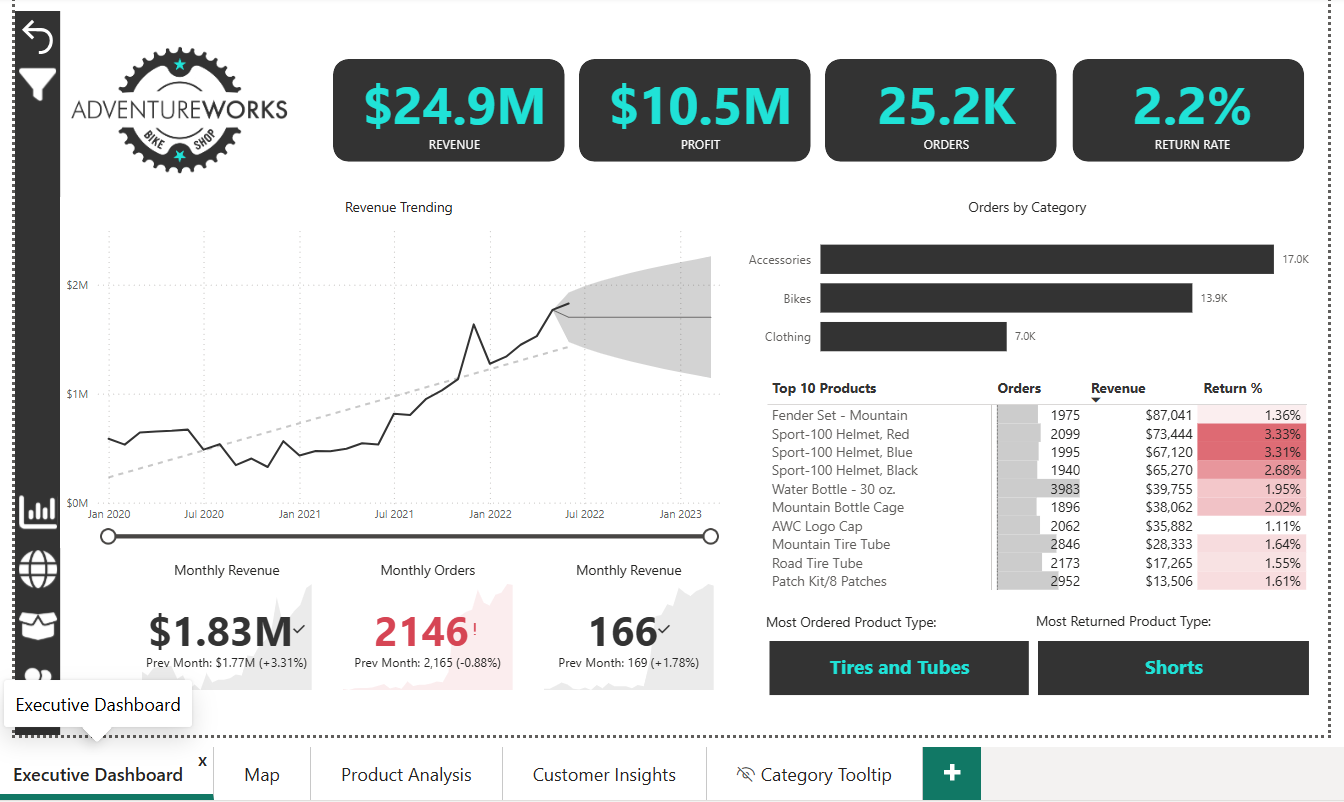

Layout of this report page (visuals, bound fields, positions):
{"tool":"powerbi","page":{"name":"Executive Dashboard","canvas":[1280,720],"ordinal":0},"visuals":[{"type":"image","title":"AW Logo","box":[25.7,14.3,268.6,192.9],"z":0},{"type":"card","fields":{"Values":["Measure Table.Total Revenue"]},"box":[293.3,15,268.3,193.3],"z":0,"group":"g2"},{"type":"group","id":"g1","title":"KPI Backgrounds","box":[310,61.4,945.7,100],"z":0,"group":"g3"},{"type":"shape","box":[310,61.4,225.7,100],"z":0,"group":"g1"},{"type":"actionButton","box":[0,476.7,45,53.3],"z":0,"group":"g4"},{"type":"shape","title":"Left Nav Background","box":[0,14.3,44.3,705.7],"z":1000},{"type":"group","id":"g2","title":"KPI Values","box":[293.3,15,986.7,193.3],"z":1000,"group":"g3"},{"type":"card","fields":{"Values":["Measure Table.Total Profit"]},"box":[532.7,15,268.3,193.3],"z":1000,"group":"g2"},{"type":"shape","box":[550,61.4,225.7,100],"z":1000,"group":"g1"},{"type":"actionButton","box":[0,532.3,45,53.3],"z":1000,"group":"g4"},{"type":"group","id":"g3","title":"KPIs","box":[293.3,15,986.7,193.3],"z":2000},{"type":"card","fields":{"Values":["Measure Table.Total Orders"]},"box":[772.2,15,268.3,193.3],"z":2000,"group":"g2"},{"type":"shape","box":[790,61.4,225.7,100],"z":2000,"group":"g1"},{"type":"actionButton","box":[0,587.8,45,53.3],"z":2000,"group":"g4"},{"type":"card","fields":{"Values":["Measure Table.Return Rate"]},"box":[1011.6,15,268.3,193.3],"z":3000,"group":"g2"},{"type":"shape","box":[1030,61.4,225.7,100],"z":3000,"group":"g1"},{"type":"lineChart","title":"Revenue Trending","fields":{"Y":["Measure Table.Total Revenue"],"Category":["Calendar Lookup.Year","Calendar Lookup.Start of Quarter","Calendar Lookup.Start of Month"]},"box":[44.3,195.7,660,341.4],"z":3000},{"type":"actionButton","box":[0,643.4,45,53.3],"z":3000,"group":"g4"},{"type":"kpi","title":"Monthly Revenue","fields":{"Indicator":["Measure Table.Total Revenue"],"TrendLine":["Calendar Lookup.Start of Month"],"Goal":["Measure Table.Previous Month Revenue"]},"box":[118.6,550,175.7,131.4],"z":4000},{"type":"kpi","title":"Monthly Orders","fields":{"TrendLine":["Calendar Lookup.Start of Month"],"Indicator":["Measure Table.Total Orders"],"Goal":["Measure Table.Previous Month Orders"]},"box":[314.3,550,175.7,131.4],"z":5000},{"type":"kpi","title":"Monthly Revenue","fields":{"TrendLine":["Calendar Lookup.Start of Month"],"Indicator":["Measure Table.Total Returns"],"Goal":["Measure Table.Previous Month Returns"]},"box":[510,550,175.7,131.4],"z":6000},{"type":"clusteredBarChart","title":"Orders by Category","fields":{"Category":["Product Categories Lookup.CategoryName"],"Y":["Measure Table.Total Orders"]},"box":[704.4,195.9,563.5,171.6],"z":7000},{"type":"pivotTable","fields":{"Rows":["Product Lookup.ProductName"],"Values":["Measure Table.Total Orders","Measure Table.Total Revenue","Measure Table.Return Rate"]},"box":[727.1,367.1,540,228.6],"z":8000},{"type":"card","fields":{"Values":["Min(Product Subcategories Lookup.SubcategoryName)"]},"box":[735.7,628.6,252.9,52.9],"z":9000},{"type":"textbox","box":[726.7,595,198.3,31.7],"z":10000},{"type":"card","fields":{"Values":["Min(Product Subcategories Lookup.SubcategoryName)"]},"box":[997.1,628.6,264.3,52.9],"z":11000},{"type":"textbox","box":[989,593.6,198.3,31.7],"z":12000},{"type":"actionButton","box":[0,17.1,44.3,44.3],"z":13000},{"type":"group","id":"g4","title":"Navigation Buttons","box":[0,476.7,45,220],"z":14000},{"type":"actionButton","box":[0,61.4,44.3,50],"z":15000}]}

Visuals, with their boxes on the page's 1280x720 design canvas (x1, y1, x2, y2). These are canvas units, not pixel positions in the 1344x802 screenshot, which may show the page scaled, cropped or inside an application window:
"AW Logo" image: box=[26, 14, 294, 207]
card - Measure Table.Total Revenue: box=[293, 15, 562, 208]
"KPI Backgrounds" group: box=[310, 61, 1256, 161]
shape: box=[310, 61, 536, 161]
actionButton: box=[0, 477, 45, 530]
"Left Nav Background" shape: box=[0, 14, 44, 720]
"KPI Values" group: box=[293, 15, 1280, 208]
card - Measure Table.Total Profit: box=[533, 15, 801, 208]
shape: box=[550, 61, 776, 161]
actionButton: box=[0, 532, 45, 586]
"KPIs" group: box=[293, 15, 1280, 208]
card - Measure Table.Total Orders: box=[772, 15, 1040, 208]
shape: box=[790, 61, 1016, 161]
actionButton: box=[0, 588, 45, 641]
card - Measure Table.Return Rate: box=[1012, 15, 1280, 208]
shape: box=[1030, 61, 1256, 161]
"Revenue Trending" lineChart: box=[44, 196, 704, 537]
actionButton: box=[0, 643, 45, 697]
"Monthly Revenue" kpi: box=[119, 550, 294, 681]
"Monthly Orders" kpi: box=[314, 550, 490, 681]
"Monthly Revenue" kpi: box=[510, 550, 686, 681]
"Orders by Category" clusteredBarChart: box=[704, 196, 1268, 368]
pivotTable - Product Lookup.ProductName x Measure Table.Total Orders: box=[727, 367, 1267, 596]
card - Min(Product Subcategories Lookup.SubcategoryName): box=[736, 629, 989, 682]
textbox: box=[727, 595, 925, 627]
card - Min(Product Subcategories Lookup.SubcategoryName): box=[997, 629, 1261, 682]
textbox: box=[989, 594, 1187, 625]
actionButton: box=[0, 17, 44, 61]
"Navigation Buttons" group: box=[0, 477, 45, 697]
actionButton: box=[0, 61, 44, 111]
